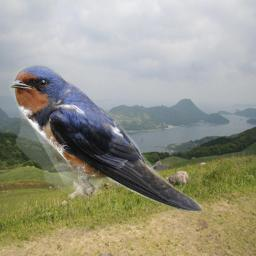Swallow: (8, 64, 203, 212)
